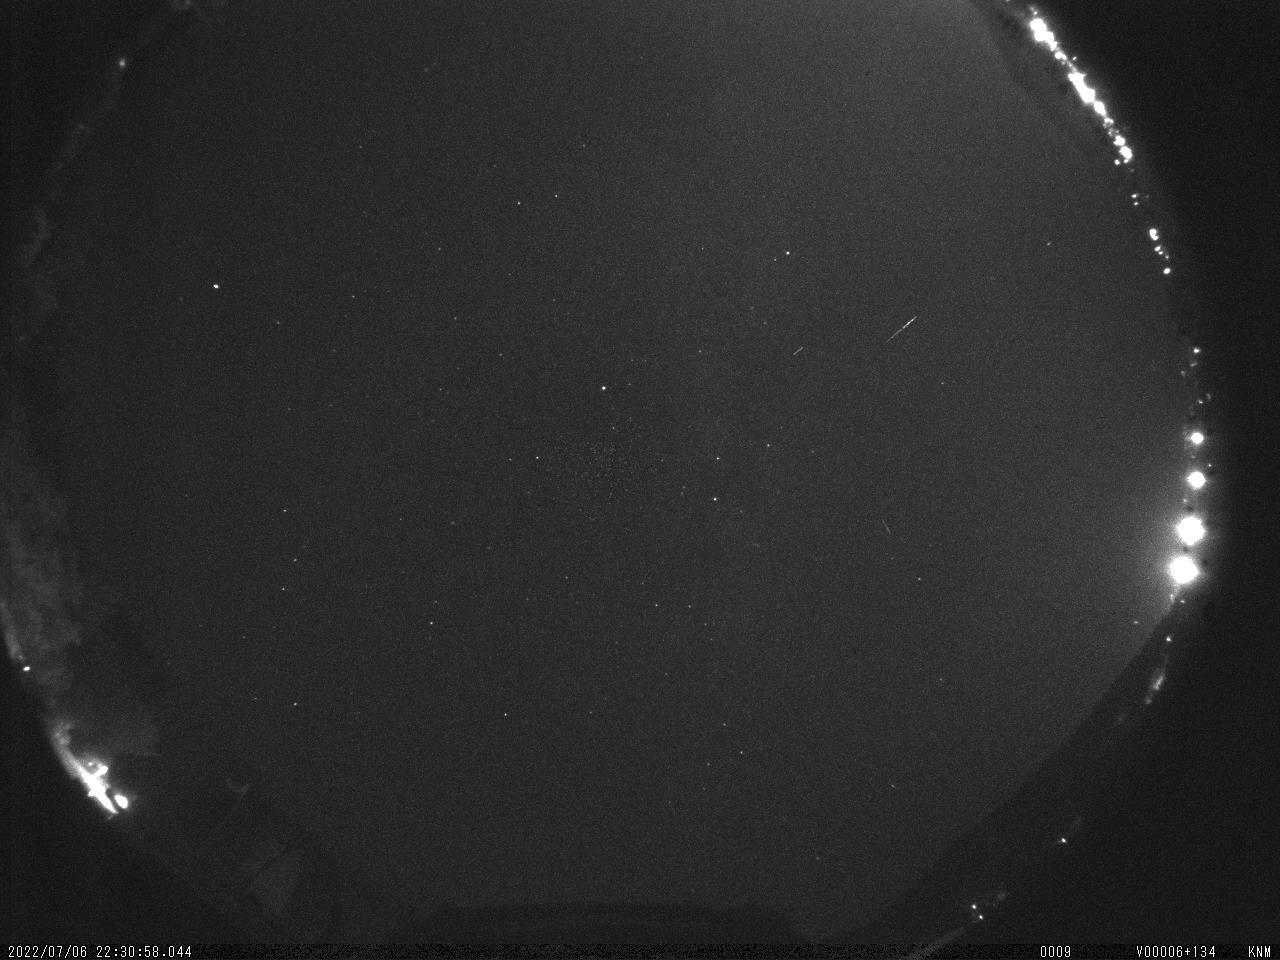Meteor: (879, 309, 928, 351)
